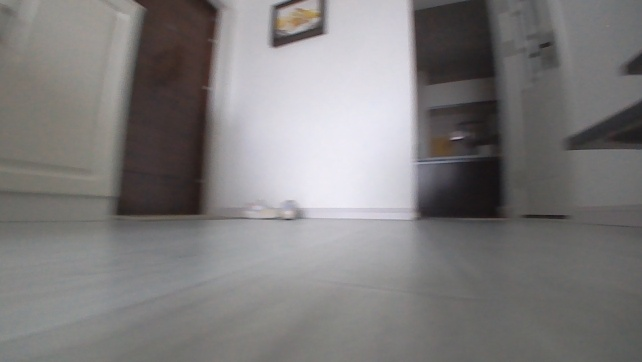cupboard: (415, 152, 501, 215)
door_anno: (112, 0, 220, 220)
